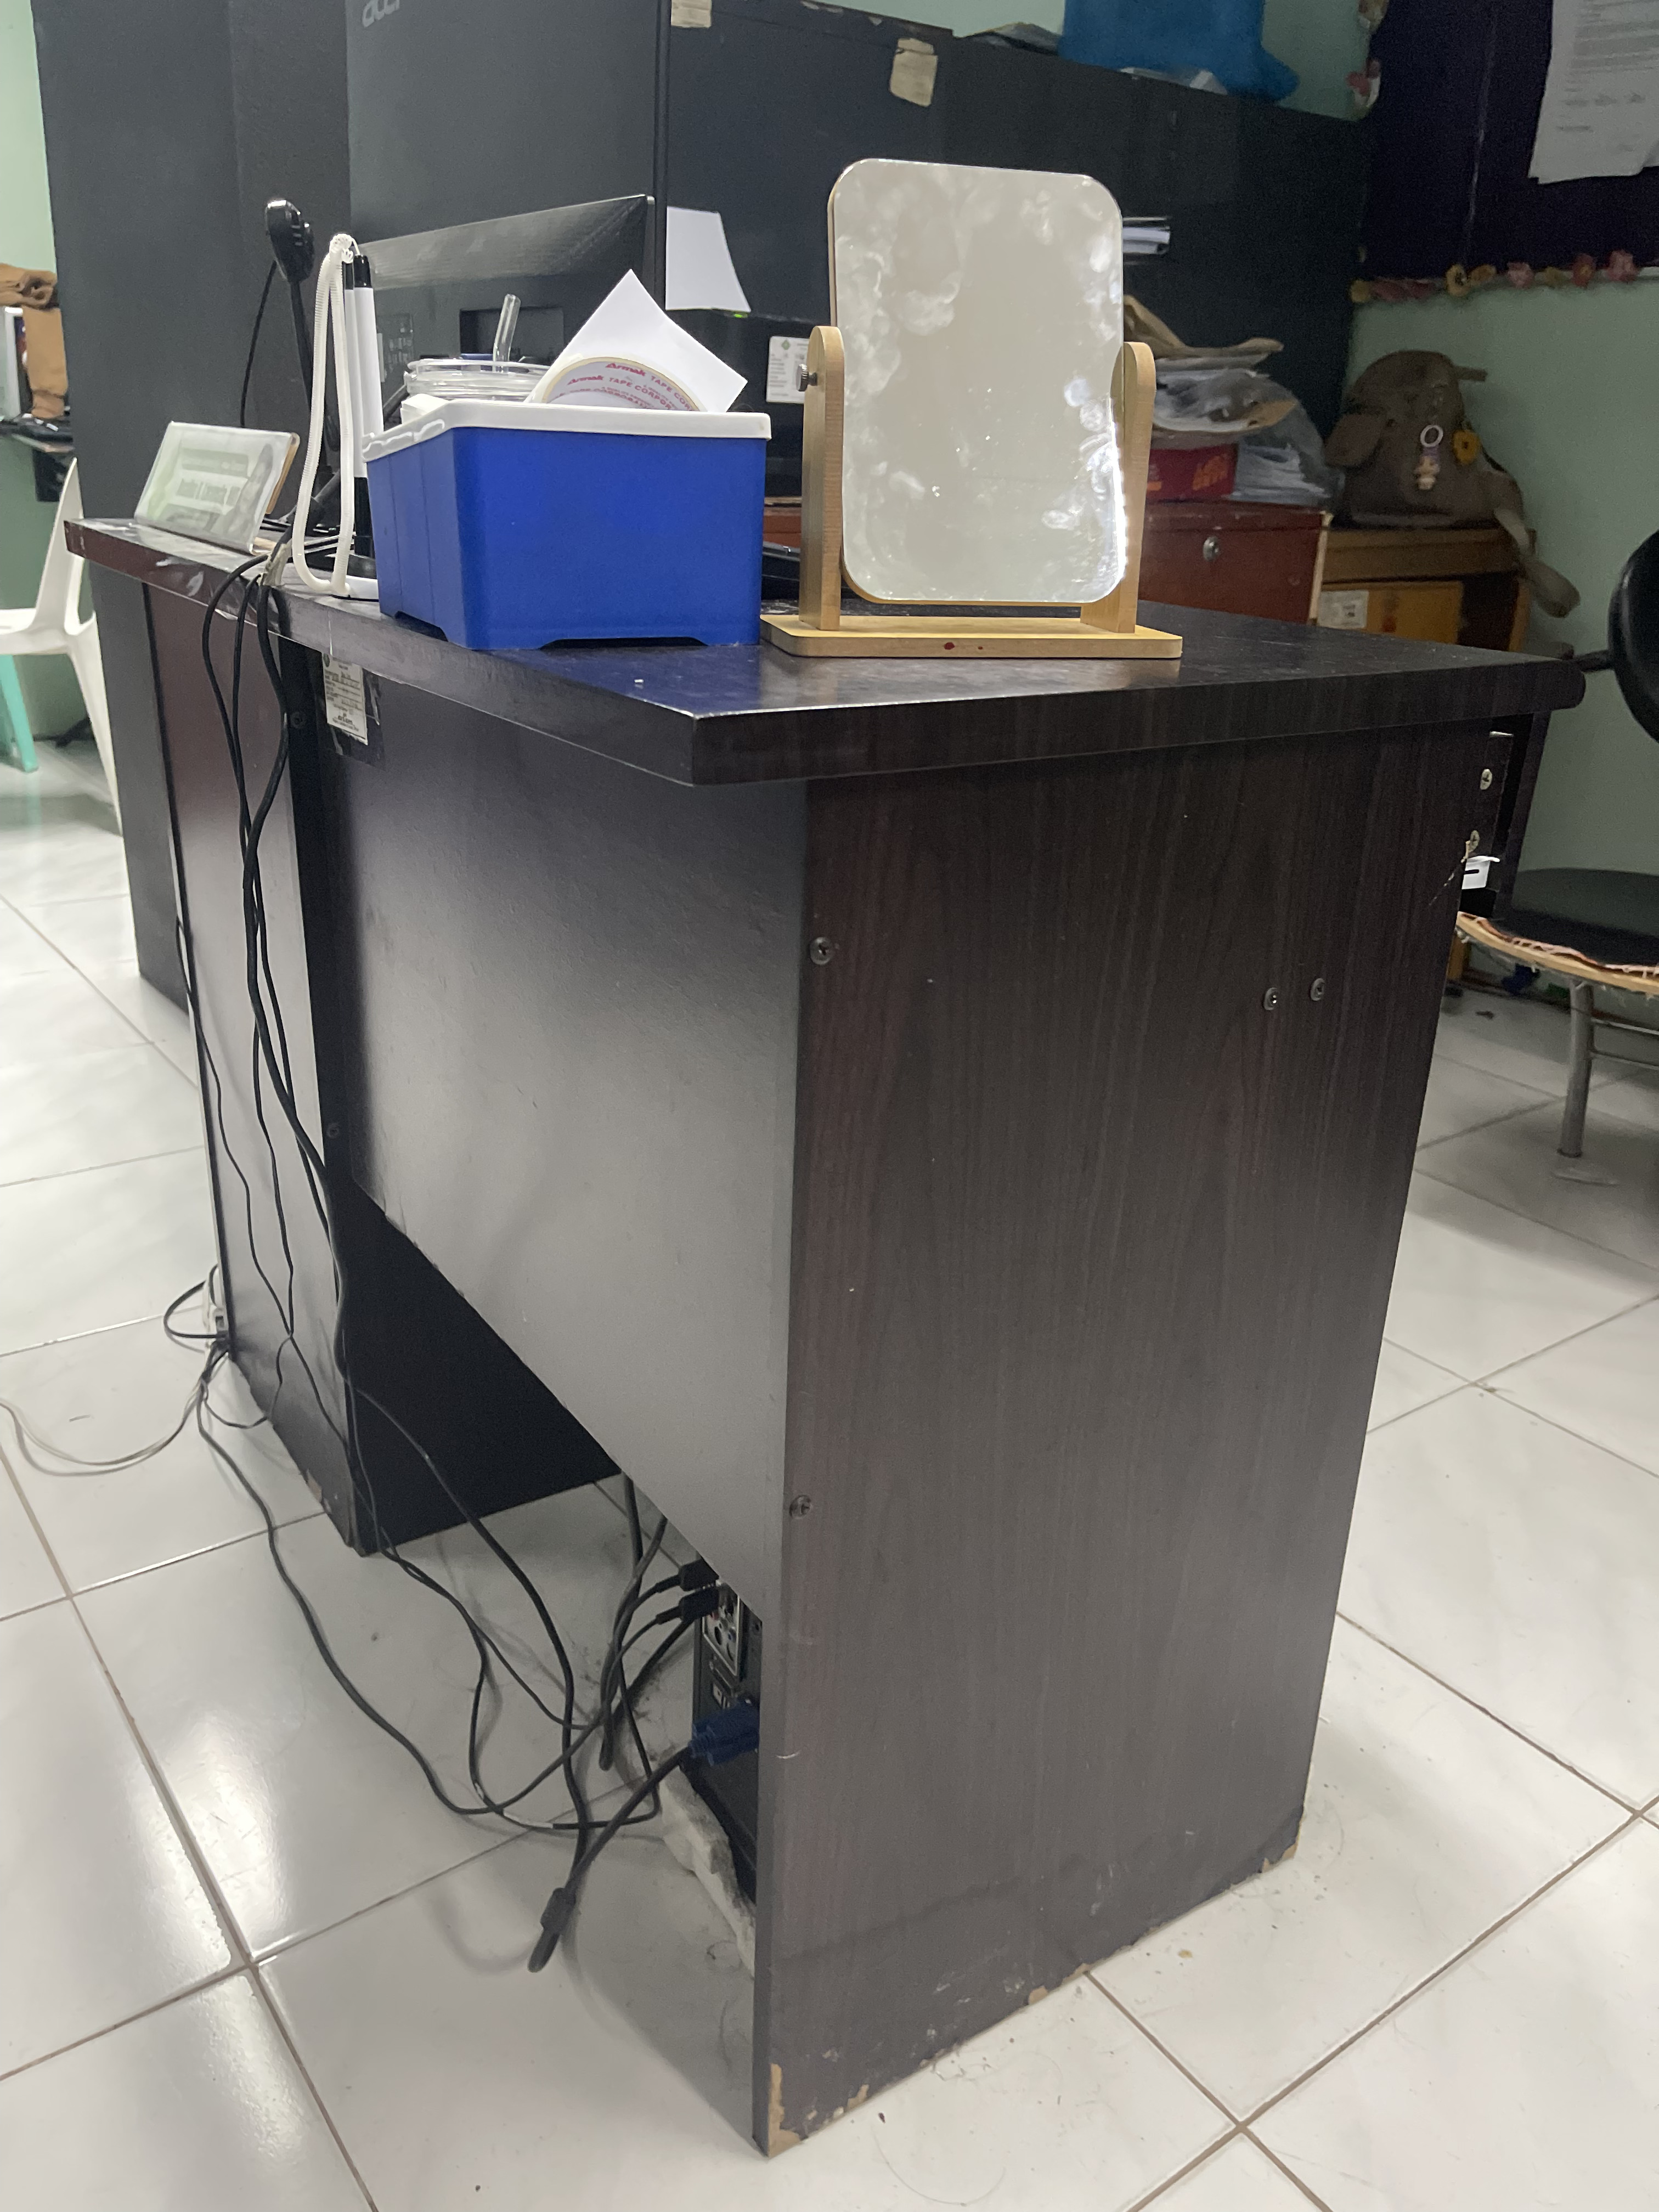table1: (54, 507, 1547, 2160)
